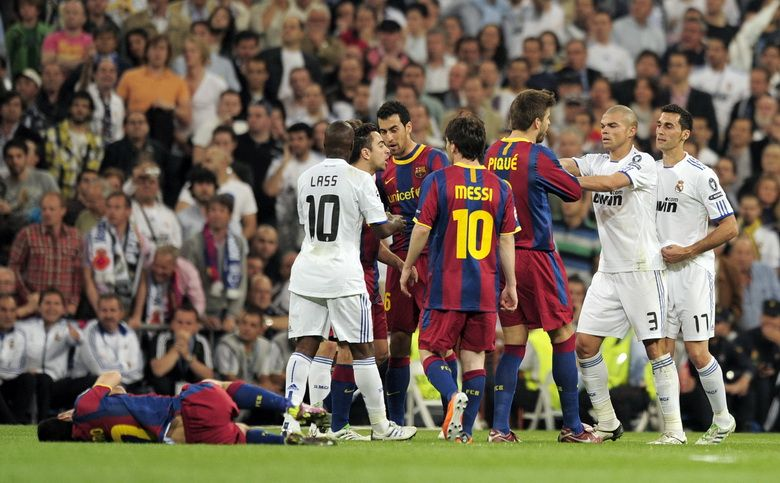10+: (1, 6, 774, 448)
down: (32, 362, 330, 450)
